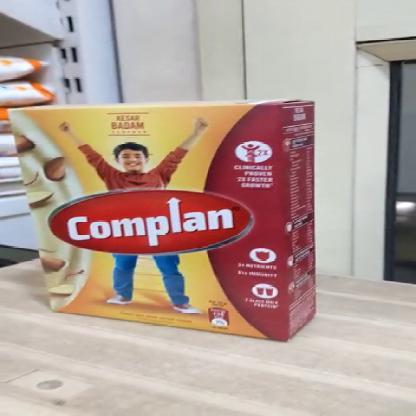Complan Kesar Badam: (7, 94, 345, 344)
